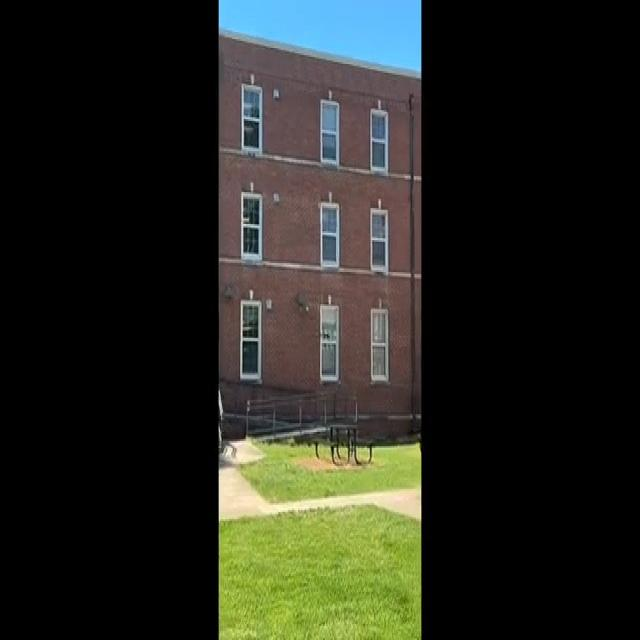drone: (316, 323, 332, 344)
